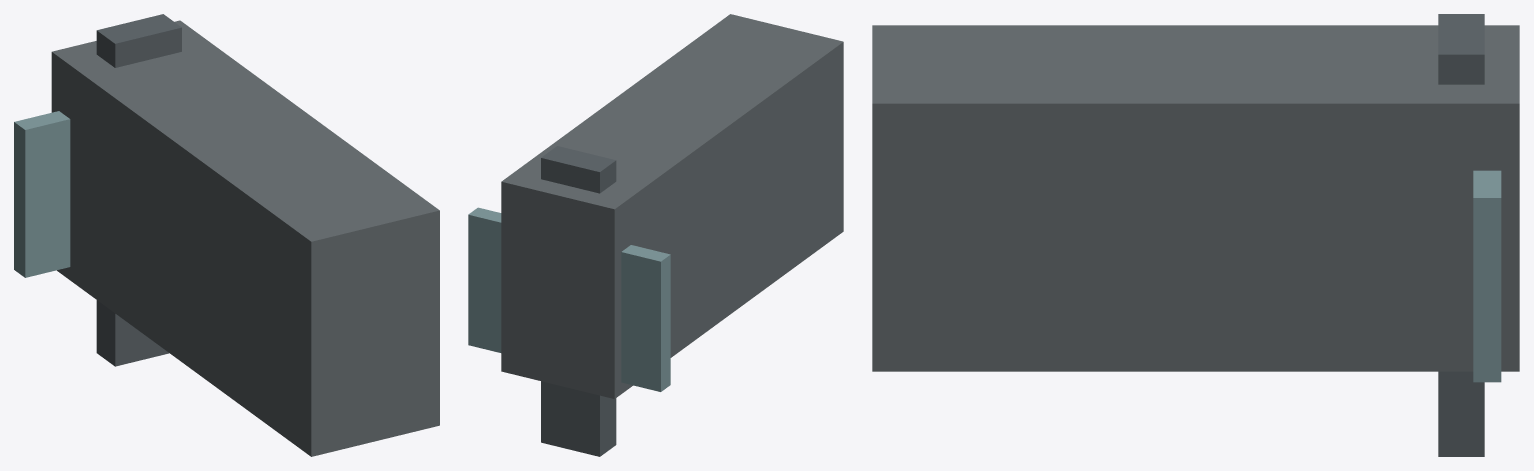
The model's file is iz3_gear_av_tufegi.glb.
3 renders of one model, left to right at view 1: azimuth 30°, elevation 25°; view 2: azimuth 150°, elevation 25°; view 3: azimuth 270°, elevation 25°, orthographic. The views are drawn at different scales.
Parts seen in each view (by area): view 1: base, display, panel; view 2: base, display, panel; view 3: base, panel, display.
Boxes of the visible parts, box(x1,y1,x2,y2) form: base: box(51, 20, 439, 456); display: box(14, 111, 70, 277); panel: box(96, 14, 181, 366); base: box(501, 14, 843, 398); display: box(468, 207, 670, 391); panel: box(541, 146, 616, 456); base: box(872, 25, 1519, 371); panel: box(1438, 14, 1484, 456); display: box(1473, 170, 1501, 382).
Size of the model in its own units: 0.34 by 0.48 by 0.7.
